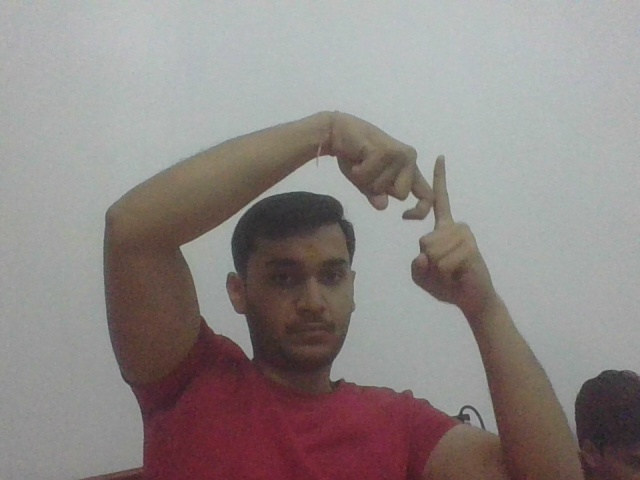K: (396, 144, 473, 241)
